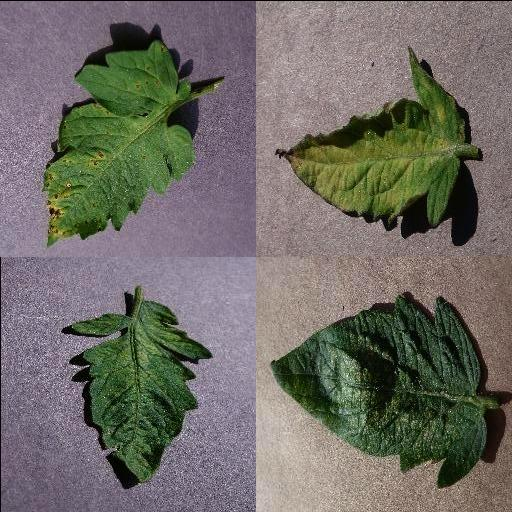Leaf Mold: (273, 46, 467, 228)
Mosaic Virus: (67, 299, 215, 486)
Septoria: (43, 42, 191, 246)
Spider Mites: (271, 294, 489, 488)
